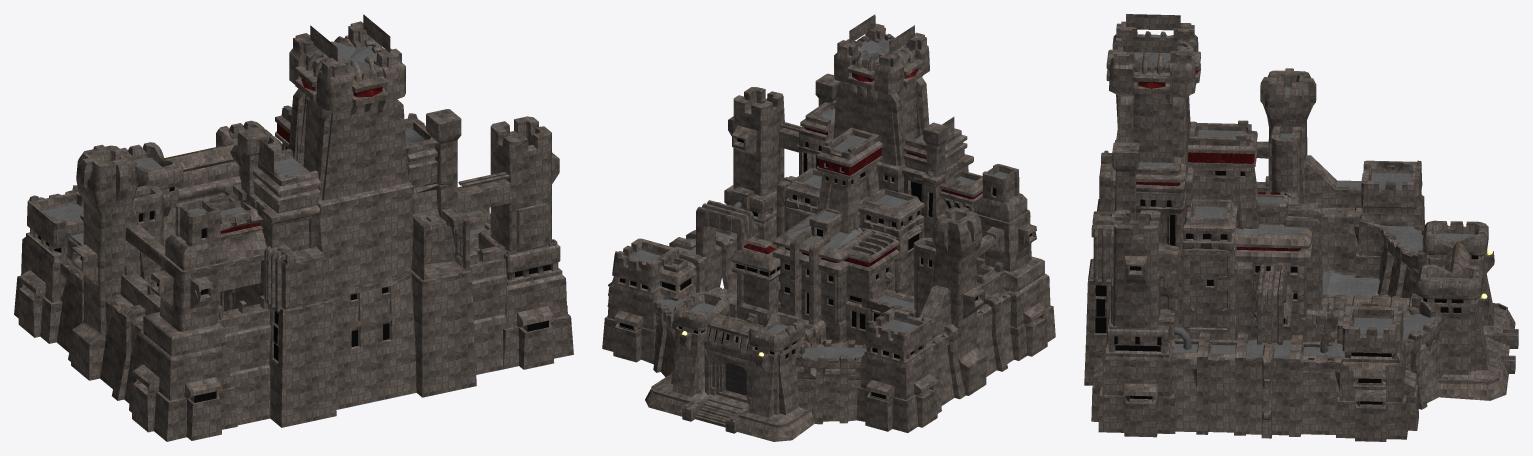
3 views of the same model, side by side, from view 1: azimuth 30°, elevation 25°; view 2: azimuth 150°, elevation 25°; view 3: azimuth 270°, elevation 25° (orthographic). The views are drawn at different scales.
Visible parts, largest first — view 1: Brutalist Mega Castle 18k; view 2: Brutalist Mega Castle 18k; view 3: Brutalist Mega Castle 18k.
Boxes of the visible parts, x1=… form: Brutalist Mega Castle 18k: x1=14, y1=14, x2=573, y2=441; Brutalist Mega Castle 18k: x1=602, y1=14, x2=1055, y2=441; Brutalist Mega Castle 18k: x1=1084, y1=14, x2=1518, y2=441.
Bounding box in the file's own units: 17.65 × 14.3 × 17.31.
Materials: 7 (4 with a texture image).
